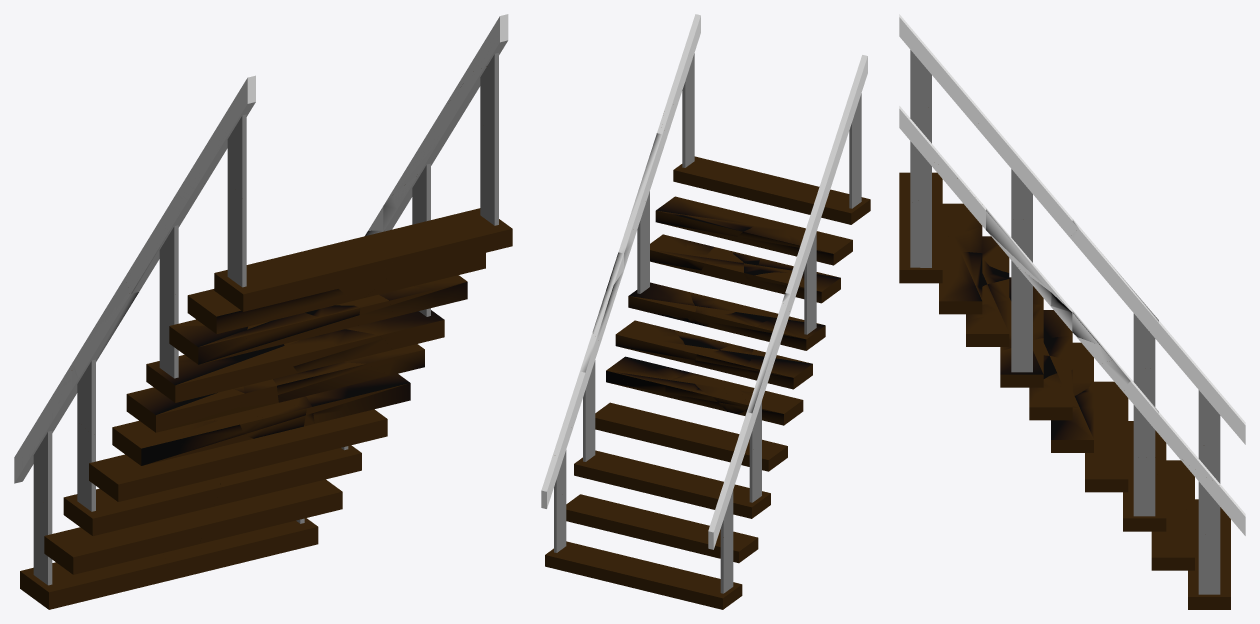
Rendered from StairCase_01_snaps001.fbx.
3 views of the same model, side by side, from view 1: azimuth 30°, elevation 25°; view 2: azimuth 150°, elevation 25°; view 3: azimuth 270°, elevation 25° (orthographic). The views are drawn at different scales.
Parts seen in each view (by area): view 1: StairCase_01_snaps001_frag_007, StairCase_01_snaps001_frag_008, StairCase_01_snaps001_frag_011, StairCase_01_snaps001_frag_009, StairCase_01_snaps001_frag_012, StairCase_01_snaps001_frag_015, StairCase_01_snaps001_frag_013, StairCase_01_snaps001_frag_014, StairCase_01_snaps001_frag_010, StairCase_01_snaps001_frag_016, StairCase_01_snaps001_frag_026, StairCase_01_snaps001_frag_024 (+40 smaller); view 2: StairCase_01_snaps001_frag_013, StairCase_01_snaps001_frag_008, StairCase_01_snaps001_frag_012, StairCase_01_snaps001_frag_015, StairCase_01_snaps001_frag_014, StairCase_01_snaps001_frag_010, StairCase_01_snaps001_frag_016, StairCase_01_snaps001_frag_007, StairCase_01_snaps001_frag_011, StairCase_01_snaps001_frag_009, StairCase_01_snaps001_frag_030, StairCase_01_snaps001_frag_006 (+43 smaller); view 3: StairCase_01_snaps001_frag_010, StairCase_01_snaps001_frag_012, StairCase_01_snaps001_frag_006, StairCase_01_snaps001_frag_002, StairCase_01_snaps001_frag_003, StairCase_01_snaps001_frag_001, StairCase_01_snaps001_frag_004, StairCase_01_snaps001_frag_018, StairCase_01_snaps001_frag_008, StairCase_01_snaps001_frag_009, StairCase_01_snaps001_frag_016, StairCase_01_snaps001_frag_029 (+36 smaller).
Part boxes in pixels (x1,y1,x2,y2): StairCase_01_snaps001_frag_007: (214,242,400,311); StairCase_01_snaps001_frag_008: (339,208,512,281); StairCase_01_snaps001_frag_011: (44,512,203,574); StairCase_01_snaps001_frag_009: (89,441,256,501); StairCase_01_snaps001_frag_012: (193,479,342,543); StairCase_01_snaps001_frag_015: (63,477,220,536); StairCase_01_snaps001_frag_013: (20,553,169,609); StairCase_01_snaps001_frag_014: (163,518,318,580); StairCase_01_snaps001_frag_010: (243,409,387,468); StairCase_01_snaps001_frag_016: (213,445,361,506); StairCase_01_snaps001_frag_026: (126,387,244,432); StairCase_01_snaps001_frag_024: (146,355,252,402); StairCase_01_snaps001_frag_013: (623,565,742,609); StairCase_01_snaps001_frag_008: (673,156,779,207); StairCase_01_snaps001_frag_012: (566,494,671,541); StairCase_01_snaps001_frag_015: (652,472,770,518); StairCase_01_snaps001_frag_014: (545,541,663,585); StairCase_01_snaps001_frag_010: (595,402,701,448); StairCase_01_snaps001_frag_016: (574,450,685,495); StairCase_01_snaps001_frag_007: (766,174,870,224); StairCase_01_snaps001_frag_011: (648,516,758,563); StairCase_01_snaps001_frag_009: (673,425,787,471); StairCase_01_snaps001_frag_030: (678,211,773,241); StairCase_01_snaps001_frag_006: (622,64,690,244); StairCase_01_snaps001_frag_010: (1085,430,1128,492); StairCase_01_snaps001_frag_012: (1151,509,1194,570); StairCase_01_snaps001_frag_006: (923,156,1065,302); StairCase_01_snaps001_frag_002: (973,123,1080,236); StairCase_01_snaps001_frag_003: (1150,326,1245,444); StairCase_01_snaps001_frag_001: (899,14,992,124); StairCase_01_snaps001_frag_004: (1069,228,1163,331); StairCase_01_snaps001_frag_018: (1123,381,1219,485); StairCase_01_snaps001_frag_008: (899,217,942,283); StairCase_01_snaps001_frag_009: (1094,381,1128,432); StairCase_01_snaps001_frag_016: (1123,468,1166,531); StairCase_01_snaps001_frag_029: (939,269,982,314).
Bounding box in the file's own units: 78.74 × 188 × 118.
